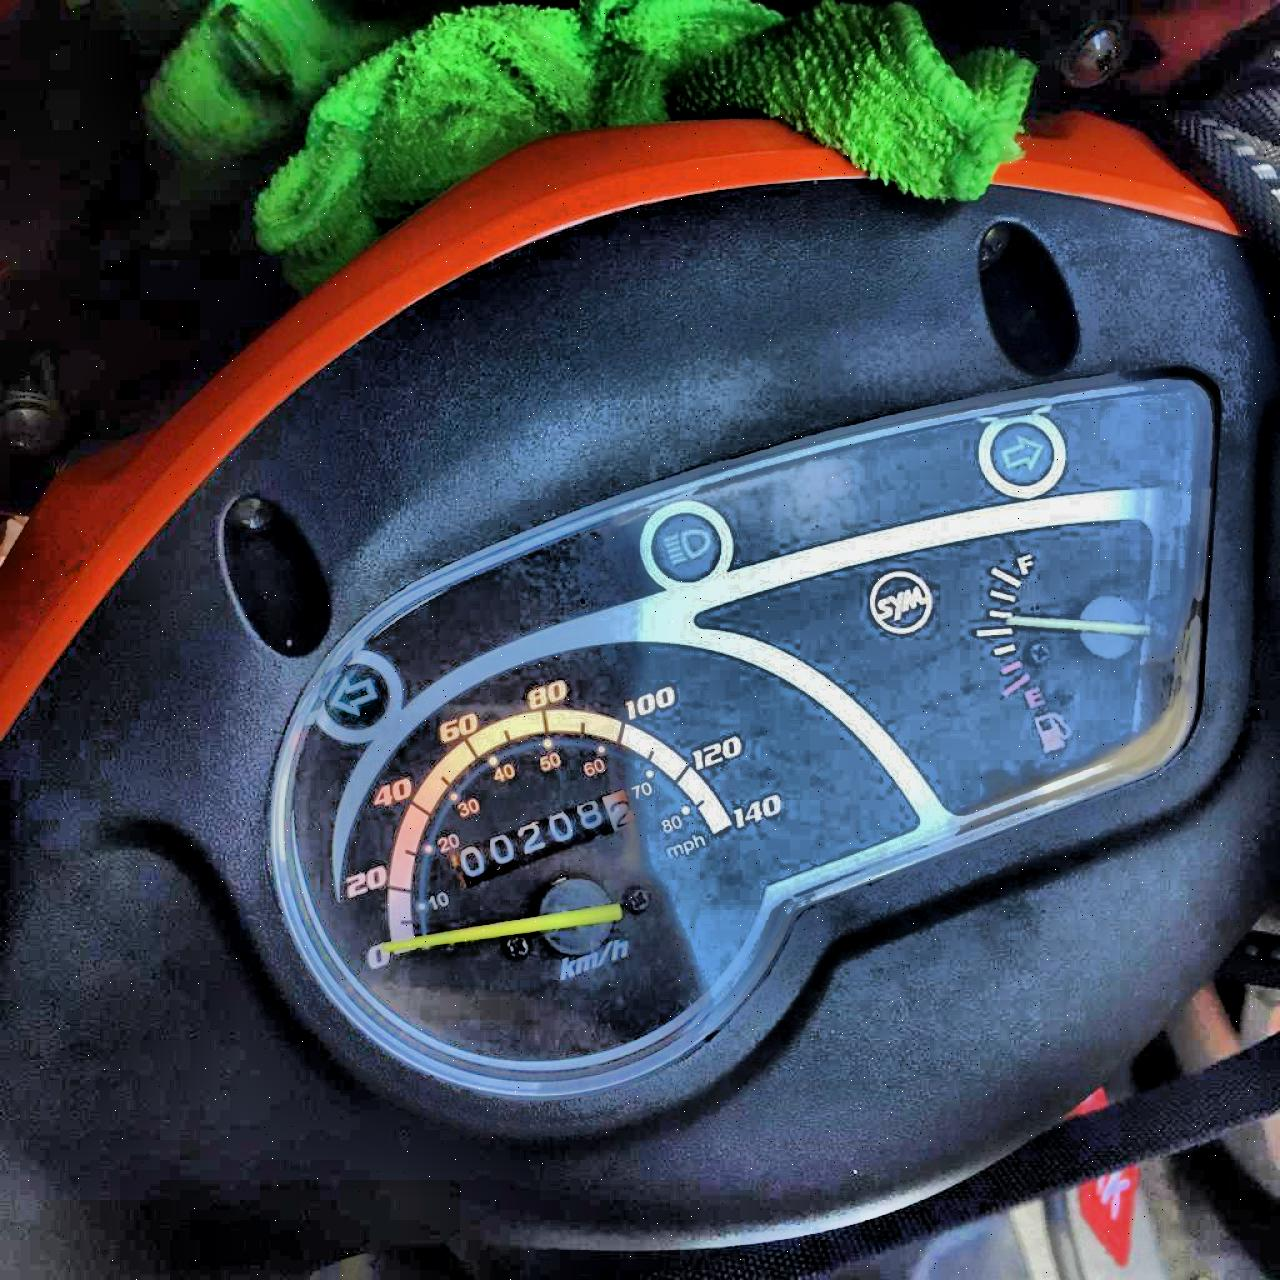0: (488, 832, 512, 864), (458, 845, 483, 876), (547, 810, 572, 840), (467, 797, 478, 812), (447, 832, 458, 847)
2: (516, 823, 545, 853), (608, 798, 633, 828)
3: (456, 802, 469, 817)
8: (576, 799, 601, 829)
odometer: (448, 788, 636, 888)
